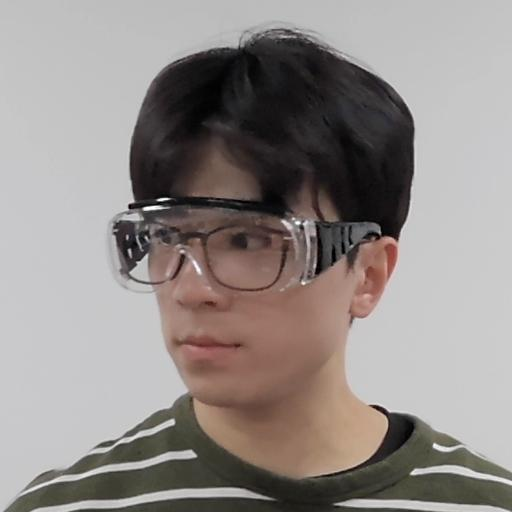glasses: (98, 34, 424, 419)
